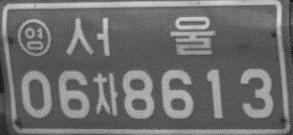0: (19, 70, 53, 119)
1: (201, 69, 232, 119)
3: (239, 67, 272, 119)
6: (160, 68, 194, 119), (57, 69, 90, 119)
8: (121, 69, 155, 119)
서울_D: (63, 14, 216, 58)
영: (16, 17, 51, 57)
차: (92, 72, 119, 117)
